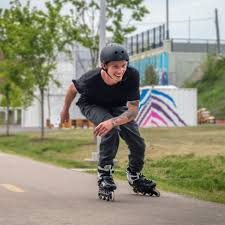roller_blade: (127, 168, 162, 197), (97, 162, 116, 200)
